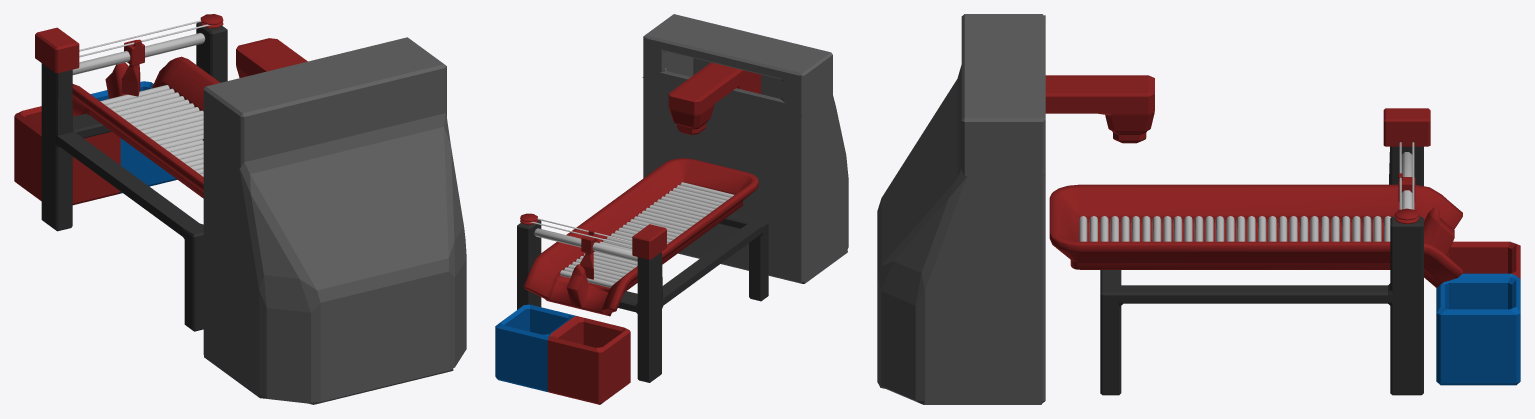
Rendered from Assembly Line.fbx.
3 renders of one model, left to right at view 1: azimuth 30°, elevation 25°; view 2: azimuth 150°, elevation 25°; view 3: azimuth 270°, elevation 25°, orthographic. The views are drawn at different scales.
Parts seen in each view (by area): view 1: Dropper, Structure, Table, Roller, Box right, DropperArm, Motor, Box left, Pusher, Wire; view 2: Dropper, Table, Structure, Box right, Roller, Box left, DropperArm, Motor, Pusher, Wire; view 3: Dropper, Table, Structure, Box left, Roller, DropperArm, Box right, Motor.
Boxes of the visible parts, x1,y1,x2,y2 form: Dropper: (202,37,466,404); Structure: (41,22,227,331); Table: (72,56,220,198); Roller: (100,85,203,176); Box right: (14,106,120,205); DropperArm: (236,38,307,77); Motor: (35,27,79,73); Box left: (90,81,177,193); Pusher: (121,39,144,96); Wire: (79,20,212,57); Dropper: (642,14,848,283); Table: (523,158,758,316); Structure: (517,213,768,382); Box right: (547,316,630,404); Roller: (560,182,734,287); Box left: (495,304,575,392); DropperArm: (668,62,760,134); Motor: (632,224,666,259); Pusher: (580,230,597,279); Wire: (529,218,632,247); Dropper: (877,14,1045,404); Table: (1049,184,1462,287); Structure: (1100,146,1423,395); Box left: (1436,273,1520,385); Roller: (1079,216,1391,241); DropperArm: (1045,75,1154,143); Box right: (1447,241,1520,278); Motor: (1383,108,1430,146).
Bounding box in the file's own units: 600 × 750 × 1530.
